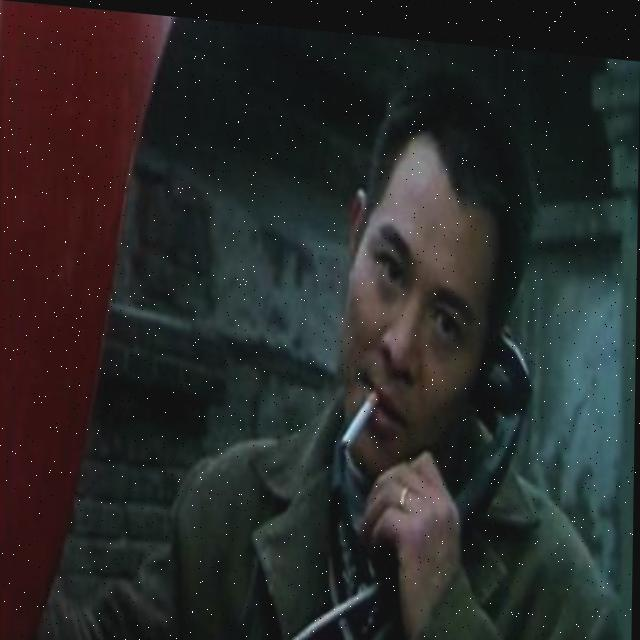cigarette: (343, 378, 382, 447)
